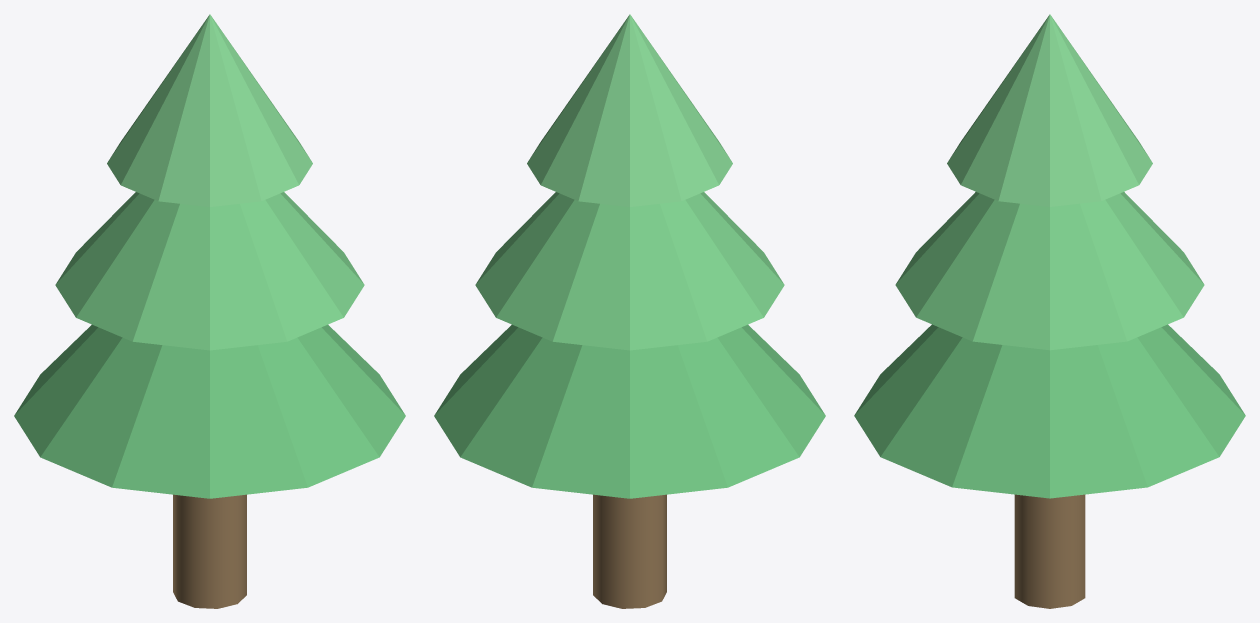
Rendered from tree.glb.
The picture shows the model from 3 angles, left to right: view 1: azimuth 30°, elevation 25°; view 2: azimuth 150°, elevation 25°; view 3: azimuth 270°, elevation 25°; orthographic projection.
Parts seen in each view (by area): view 1: part1, part2, part3, part0; view 2: part1, part2, part3, part0; view 3: part1, part2, part3, part0.
Boxes of the visible parts, x1=… form: part1: x1=14, y1=324, x2=405, y2=498; part2: x1=55, y1=192, x2=364, y2=350; part3: x1=107, y1=14, x2=312, y2=206; part0: x1=173, y1=494, x2=246, y2=608; part1: x1=434, y1=324, x2=825, y2=498; part2: x1=475, y1=192, x2=784, y2=350; part3: x1=527, y1=14, x2=732, y2=206; part0: x1=593, y1=494, x2=666, y2=608; part1: x1=854, y1=324, x2=1245, y2=498; part2: x1=895, y1=192, x2=1204, y2=350; part3: x1=947, y1=14, x2=1152, y2=206; part0: x1=1014, y1=494, x2=1085, y2=608.
Size of the model in its own units: 1.9 by 3.1 by 1.9.
